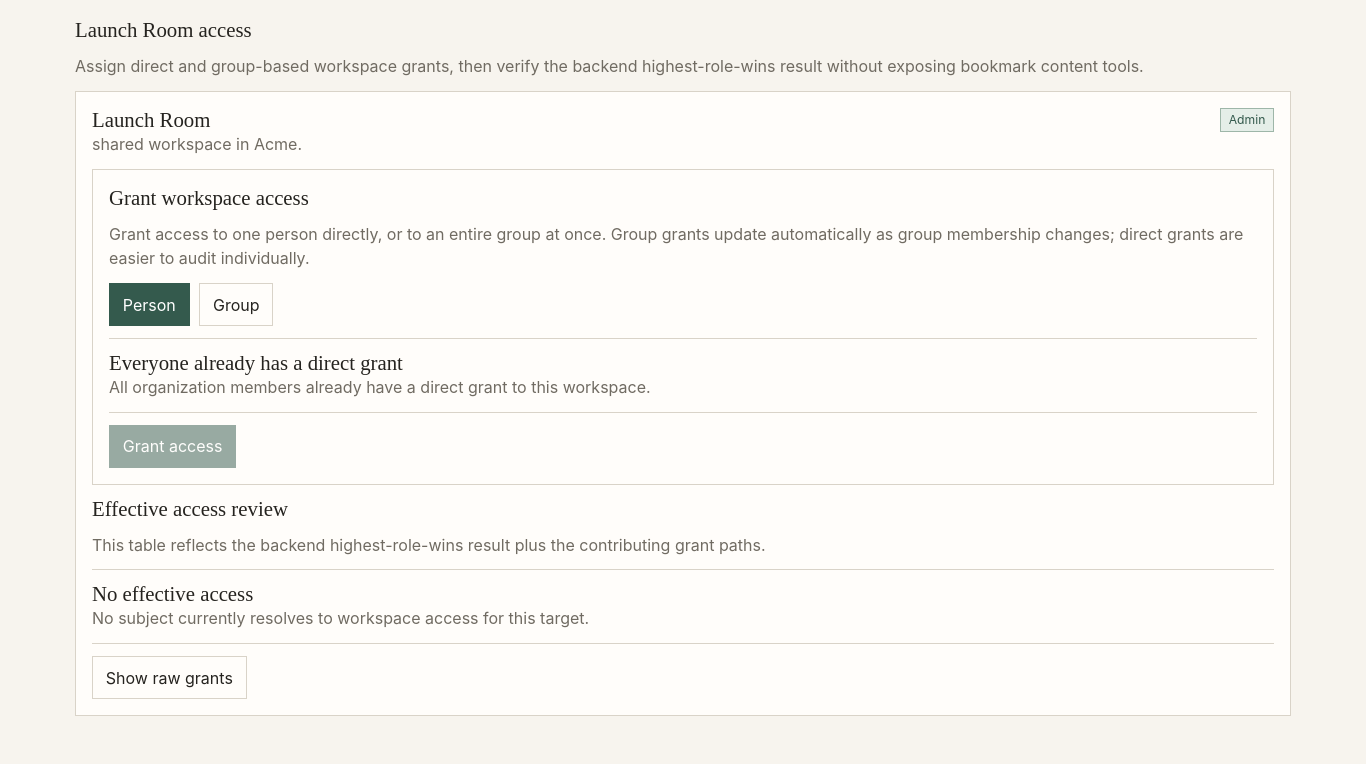
Scenario: access page › updates and revokes direct and group grants after confirming
The image size is (1366, 764).
(page scrolled)
Step 1. Click the button "Show raw grants" → [169, 678], box [92,656,247,699]
(page scrolled)
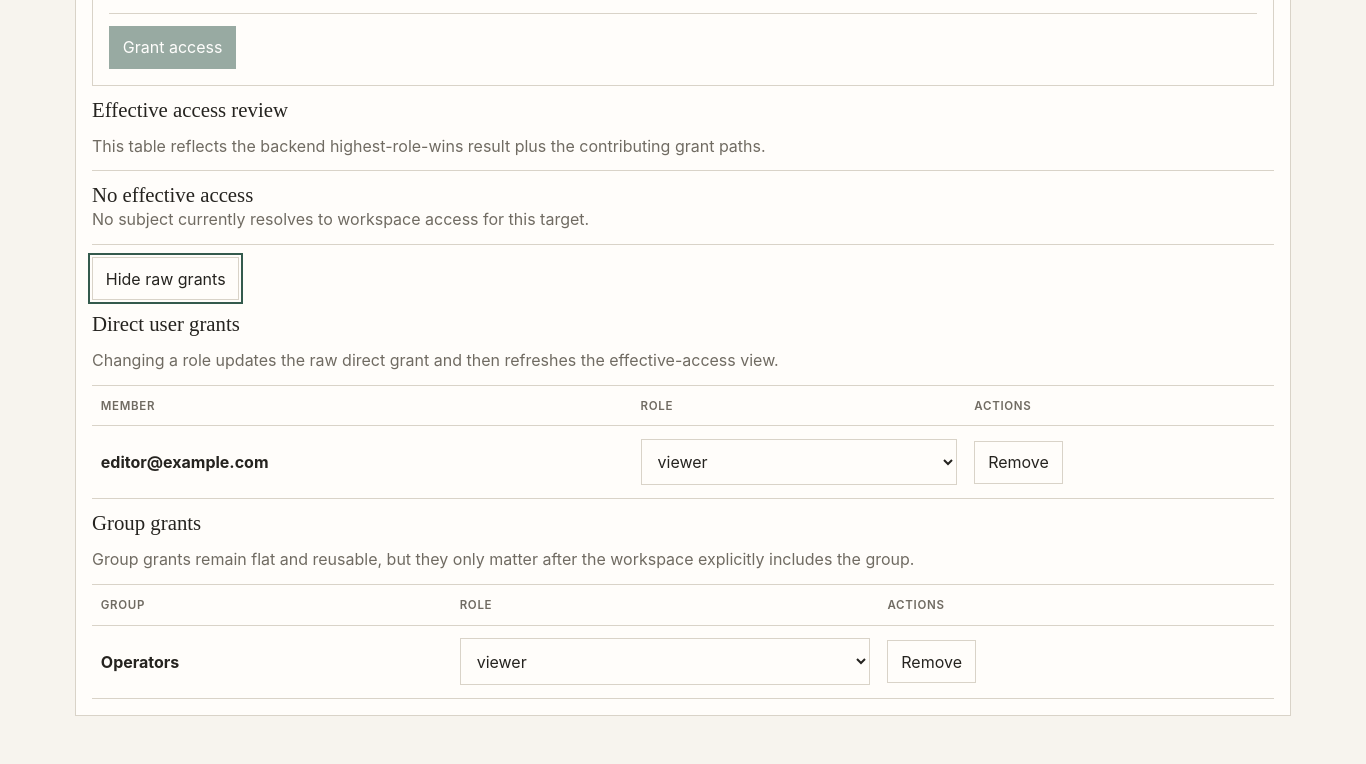
Step 2. Select "editor" in the dropdown named "direct role for editor@example.com" → [799, 462], box [641,439,957,486]
(page scrolled)
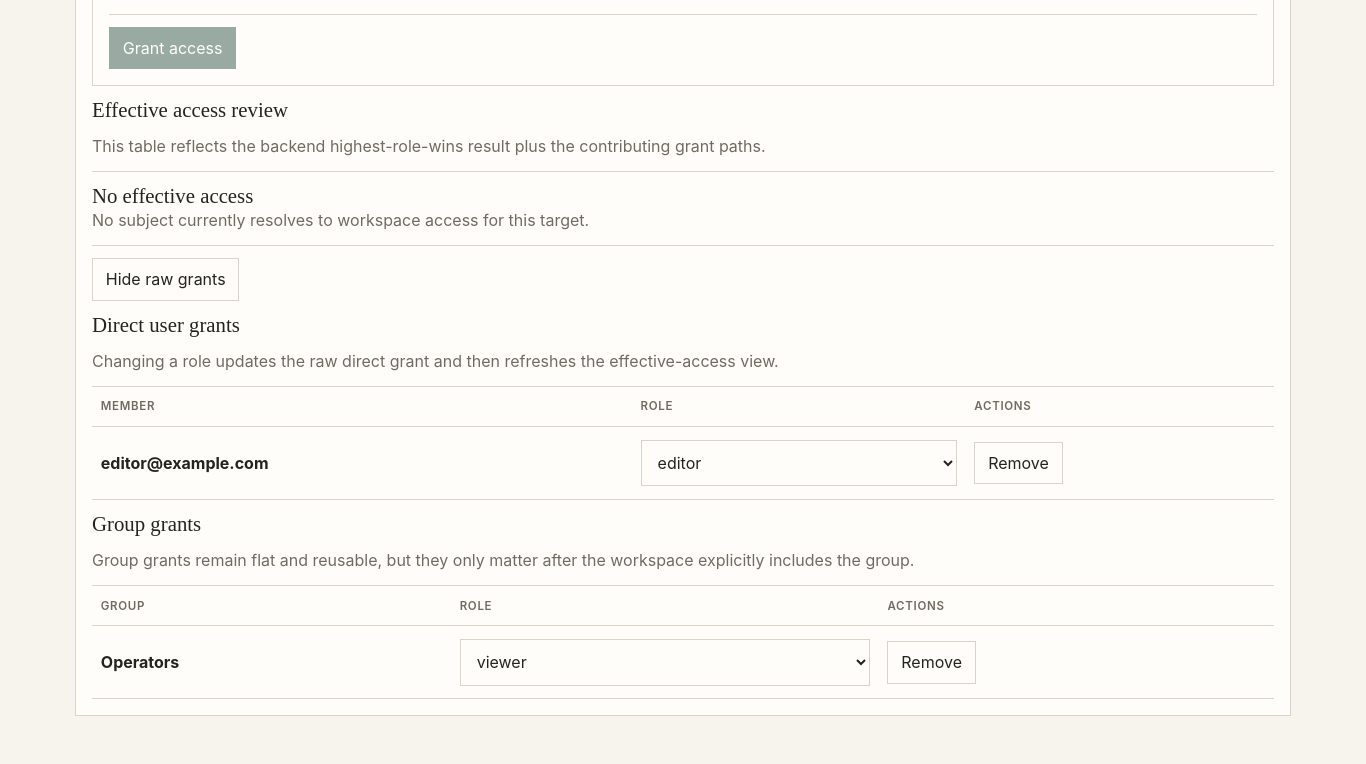
Step 3. Select "admin" in the dropdown named "group role for operators" → [665, 662], box [460,639,870,686]
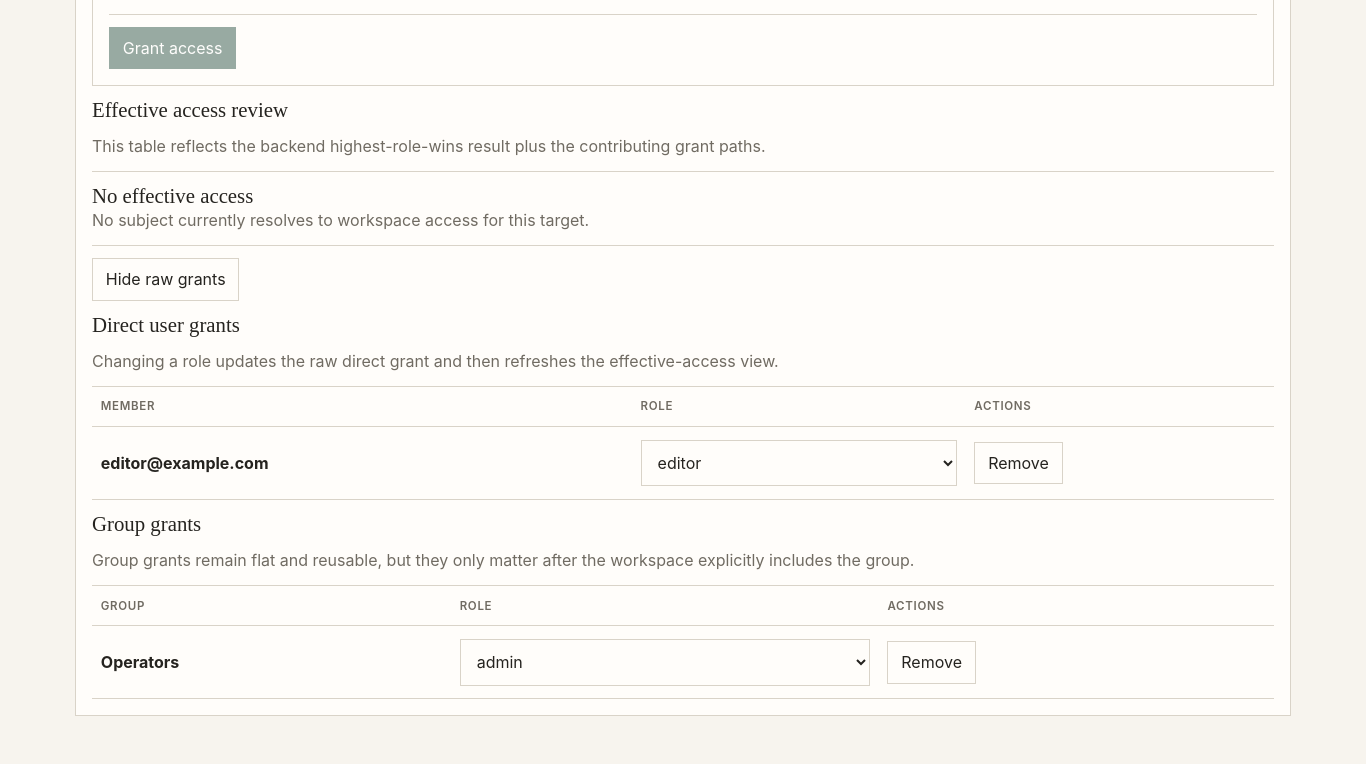
Step 4. Click the button "Remove" in the row of "editor@example.com" → [1018, 463], box [974,442,1063,484]
(page scrolled)
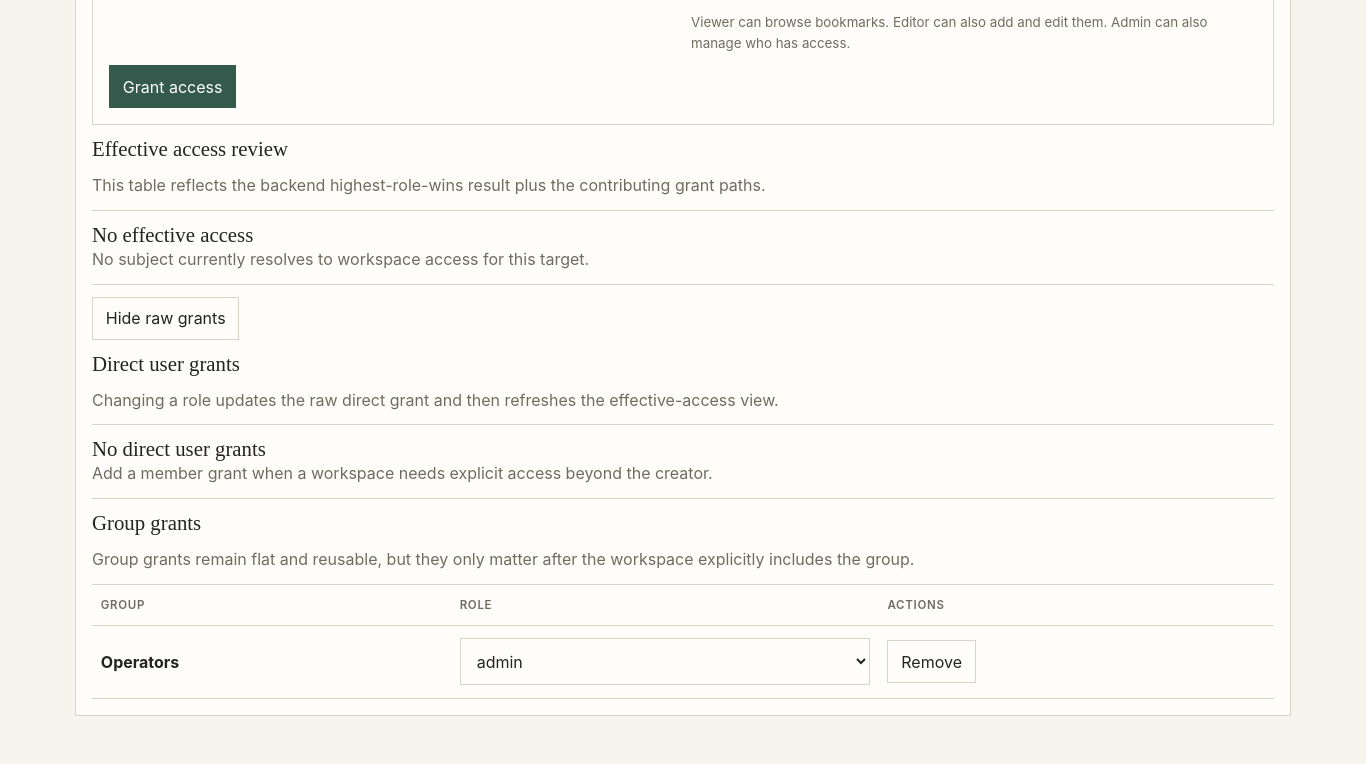
Step 5. Click the button "Remove" → [932, 662], box [888,640,976,683]
(page scrolled)
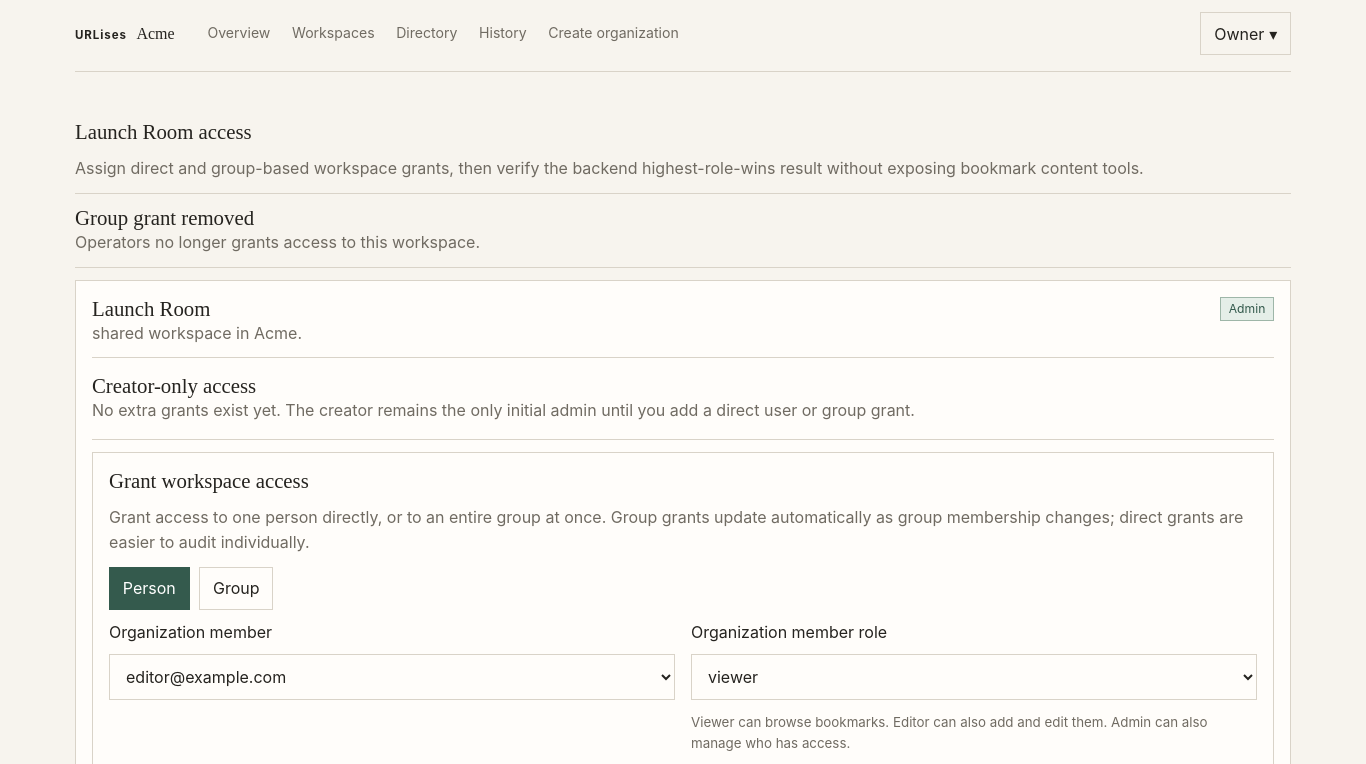
Now the heading "Group grant removed" is shown, box [75,206,254,229]
